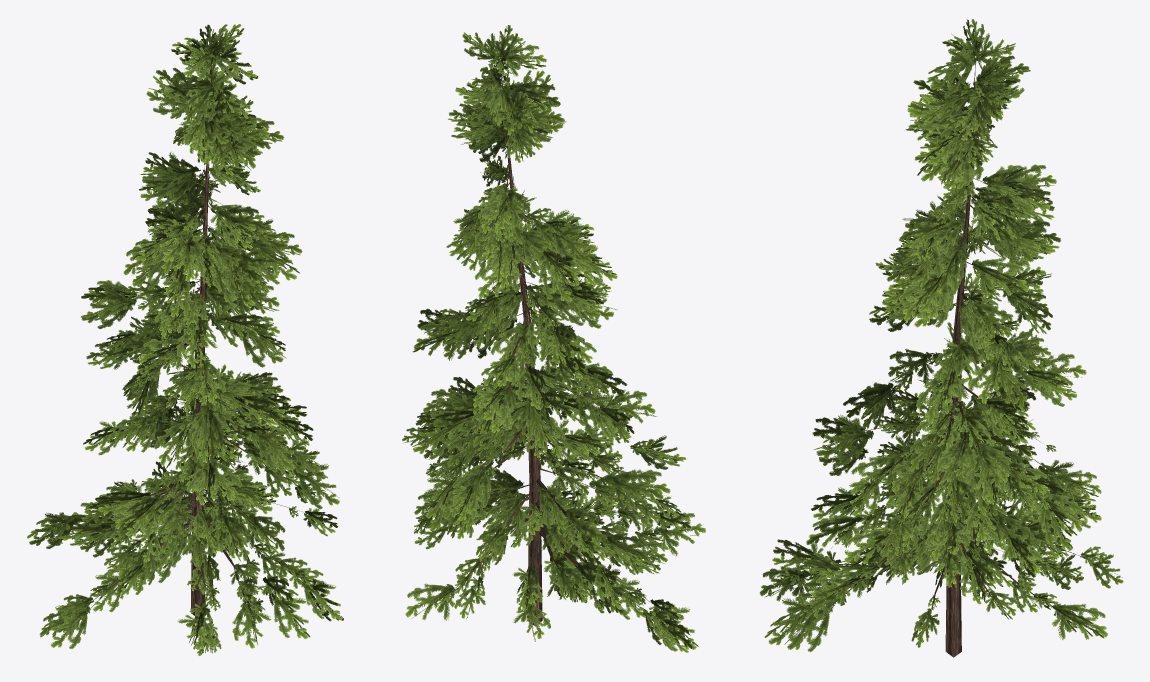
Rendered from ez_pine_c.glb.
The picture shows the model from 3 angles, left to right: view 1: azimuth 30°, elevation 25°; view 2: azimuth 150°, elevation 25°; view 3: azimuth 270°, elevation 25°; orthographic projection. The views are drawn at different scales.
Parts seen in each view (by area): view 1: Tree; view 2: Tree; view 3: Tree.
Part boxes in pixels (x1,y1,x2,y2): Tree: (27,24,343,655); Tree: (402,25,705,652); Tree: (759,19,1123,657).
Bounding box in the file's own units: 22.39 × 42.38 × 22.69.
2 materials, 2 textured.
